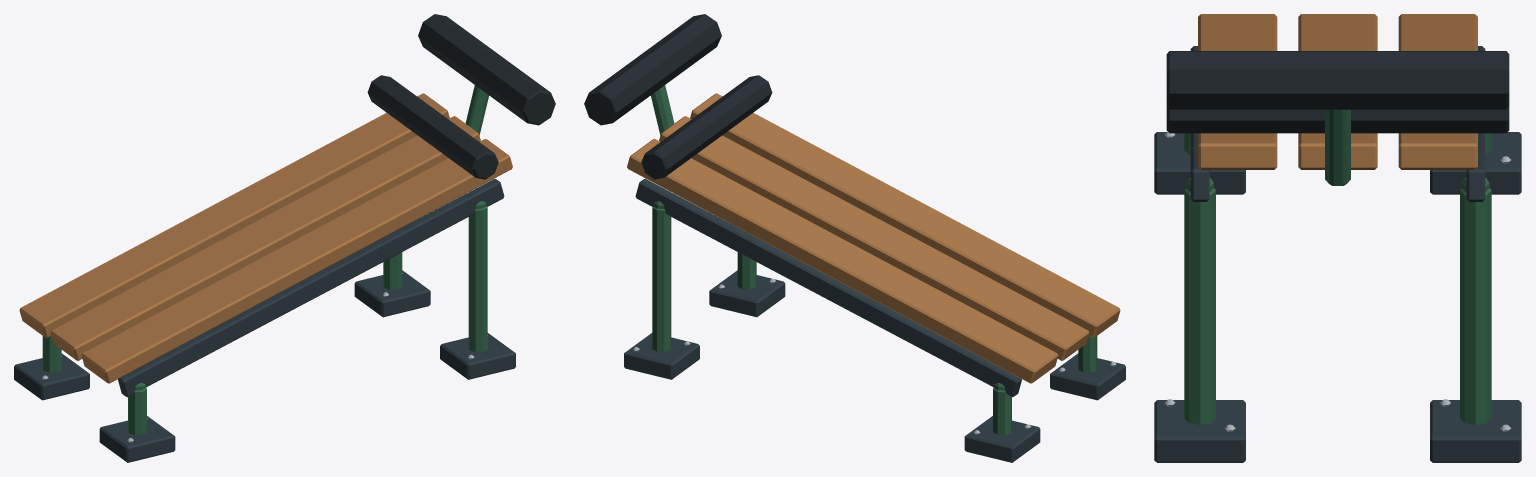
Rendered from b09_incline_situp_bench.glb.
The picture shows the model from 3 angles, left to right: view 1: azimuth 30°, elevation 25°; view 2: azimuth 150°, elevation 25°; view 3: azimuth 270°, elevation 25°; orthographic projection. The views are drawn at different scales.
Visible parts, largest first — view 1: b09_incline_situp_bench; view 2: b09_incline_situp_bench; view 3: b09_incline_situp_bench.
Boxes of the visible parts, bbox=[...] form: b09_incline_situp_bench: bbox=[14, 14, 555, 462]; b09_incline_situp_bench: bbox=[584, 14, 1125, 462]; b09_incline_situp_bench: bbox=[1154, 14, 1521, 462].
Bounding box in the file's own units: 1.97 × 1.14 × 0.88.
